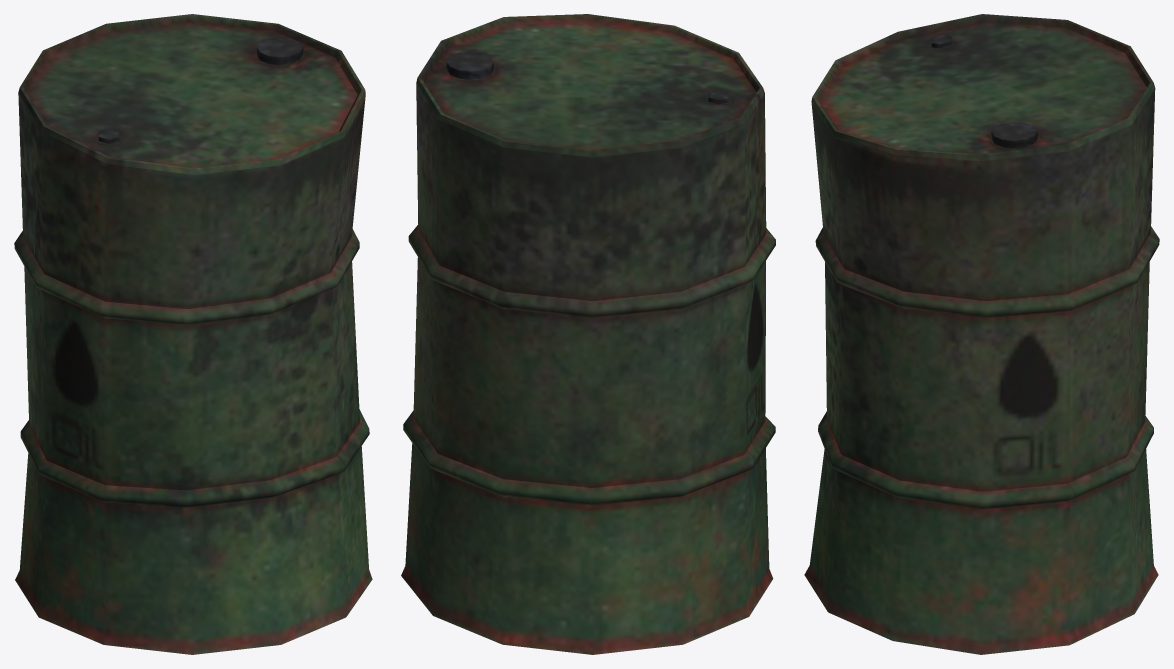
Rendered from OilBarrel_Damaged.FBX.
3 renders of one model, left to right at view 1: azimuth 30°, elevation 25°; view 2: azimuth 150°, elevation 25°; view 3: azimuth 270°, elevation 25°, orthographic.
Parts seen in each view (by area): view 1: OilBarrel_Damaged; view 2: OilBarrel_Damaged; view 3: OilBarrel_Damaged.
Boxes of the visible parts, x1,y1,x2,y2 form: OilBarrel_Damaged: [14, 14, 372, 654]; OilBarrel_Damaged: [401, 14, 775, 654]; OilBarrel_Damaged: [804, 14, 1159, 654].
Size of the model in its own units: 57.34 by 84.5 by 55.01.
